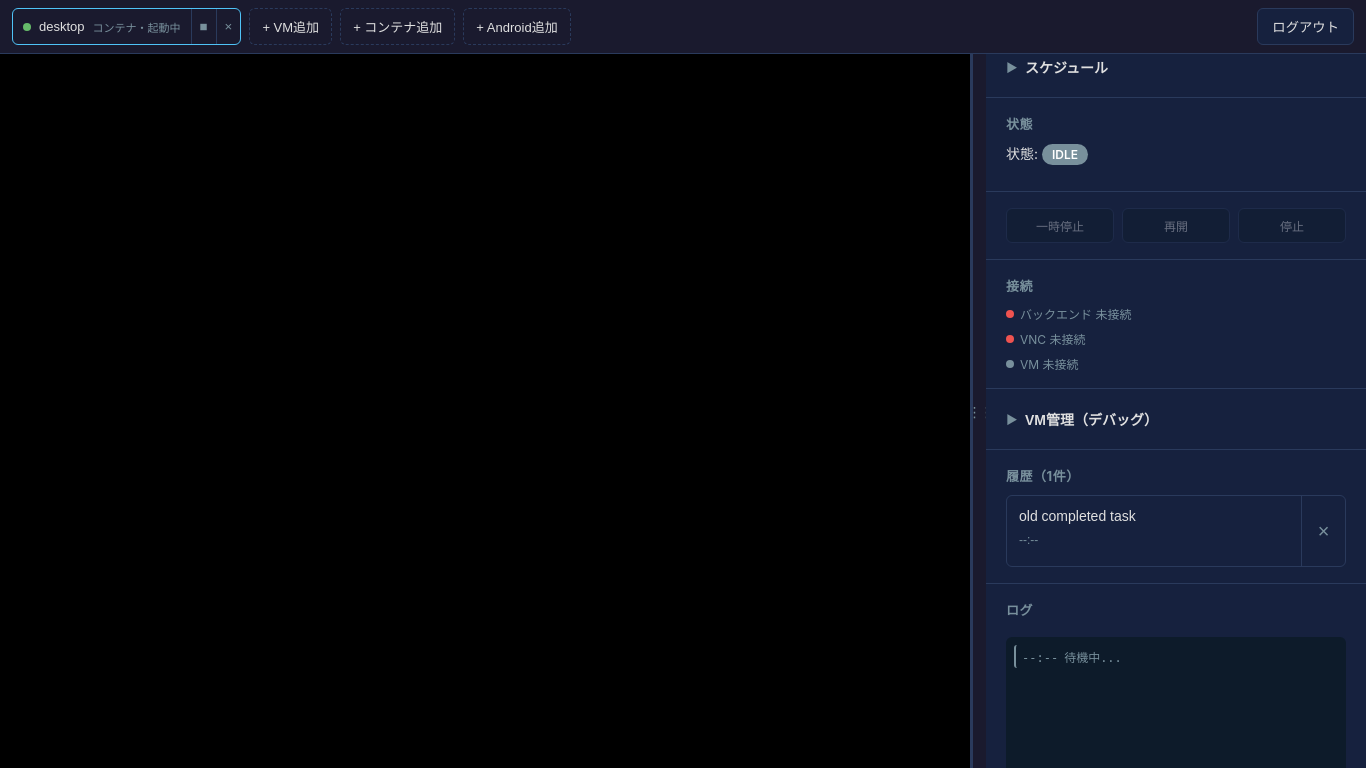
a server restart reloads the selected history and ignores its old pending response
The image size is (1366, 768).
(page scrolled)
Expected: the button "desktop コンテナ・起動中" is shown, [13, 9, 190, 44]
Click the button titled "old completed task". click: coordinates (1077, 516)
box: [1007, 496, 1301, 566]
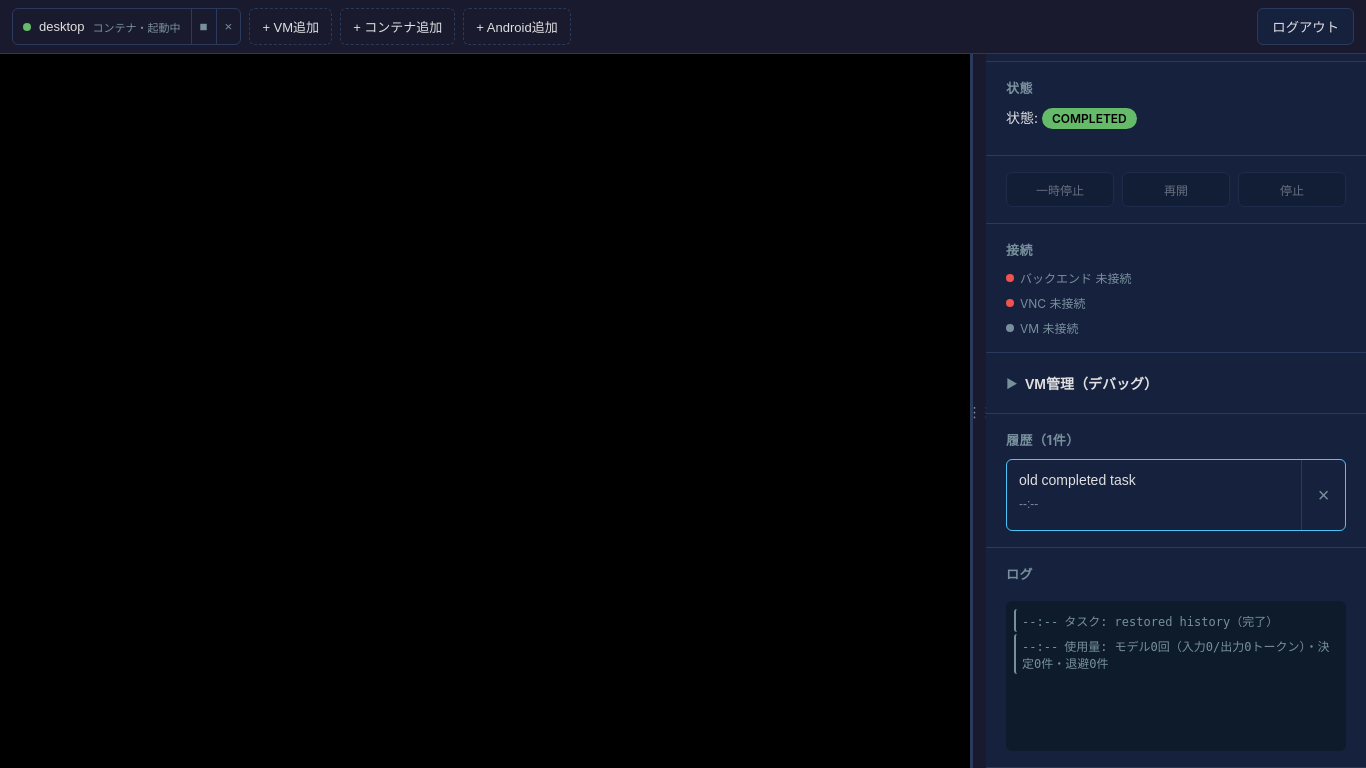
Result: the text "タスク: restored history（完了）" is shown at [1064, 615, 1278, 629]
